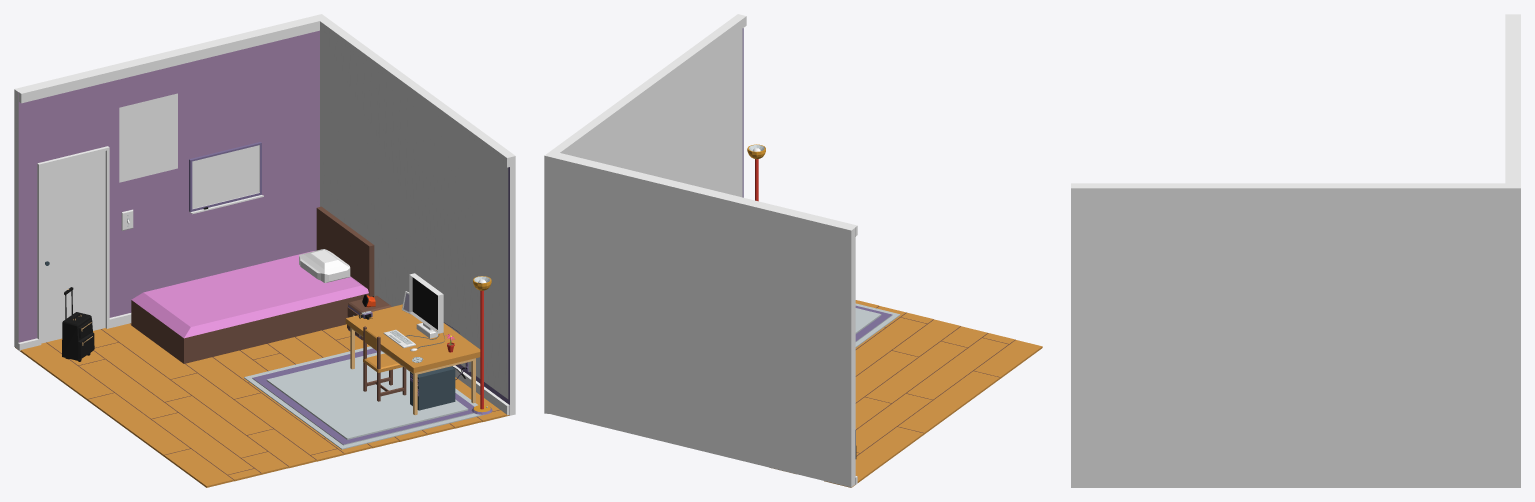
File: room3.glb
3 renders of one model, left to right at view 1: azimuth 30°, elevation 25°; view 2: azimuth 150°, elevation 25°; view 3: azimuth 270°, elevation 25°, orthographic. The views are drawn at different scales.
Visible parts, largest first — view 1: Node, Plane.001, Plane; view 2: Node, Plane.001; view 3: Node.
Boxes of the visible parts, <box> form: Node: <box>14,14,515,487</box>; Plane.001: <box>320,31,508,398</box>; Plane: <box>119,93,177,182</box>; Node: <box>544,14,1042,487</box>; Plane.001: <box>570,29,742,197</box>; Node: <box>1071,14,1520,487</box>.
Bounding box in the file's own units: 3.71 × 2.97 × 4.04.
